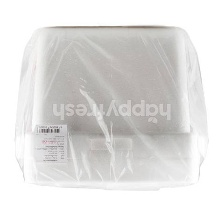foam_box: (9, 20, 213, 198)
